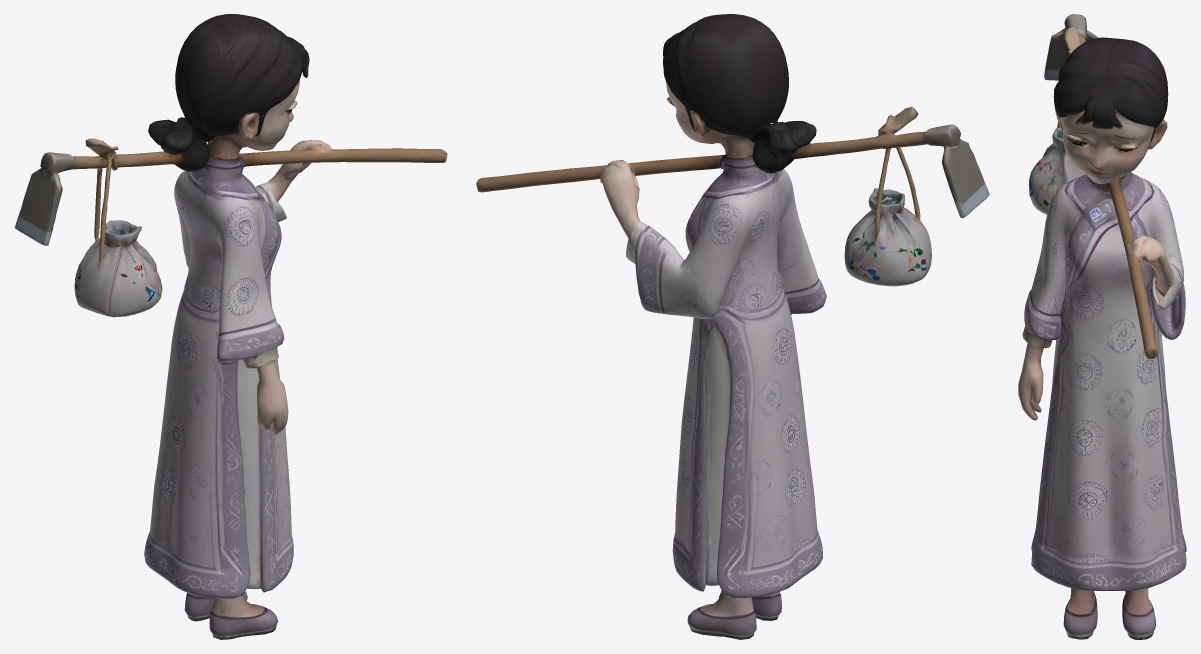
File: daiyu_burial.glb
3 renders of one model, left to right at view 1: azimuth 30°, elevation 25°; view 2: azimuth 150°, elevation 25°; view 3: azimuth 270°, elevation 25°, orthographic. The views are drawn at different scales.
Visible parts, largest first — view 1: tripo_node_9ae164cb-0ec4-45aa-9c1b-b294dac108f5; view 2: tripo_node_9ae164cb-0ec4-45aa-9c1b-b294dac108f5; view 3: tripo_node_9ae164cb-0ec4-45aa-9c1b-b294dac108f5.
Part boxes in pixels (bbox=[...]): tripo_node_9ae164cb-0ec4-45aa-9c1b-b294dac108f5: bbox=[14, 14, 447, 639]; tripo_node_9ae164cb-0ec4-45aa-9c1b-b294dac108f5: bbox=[476, 14, 989, 639]; tripo_node_9ae164cb-0ec4-45aa-9c1b-b294dac108f5: bbox=[1018, 14, 1186, 639].
Bounding box in the file's own units: 0.8011 × 1 × 0.2606.
Materials: 1 (1 with a texture image).
